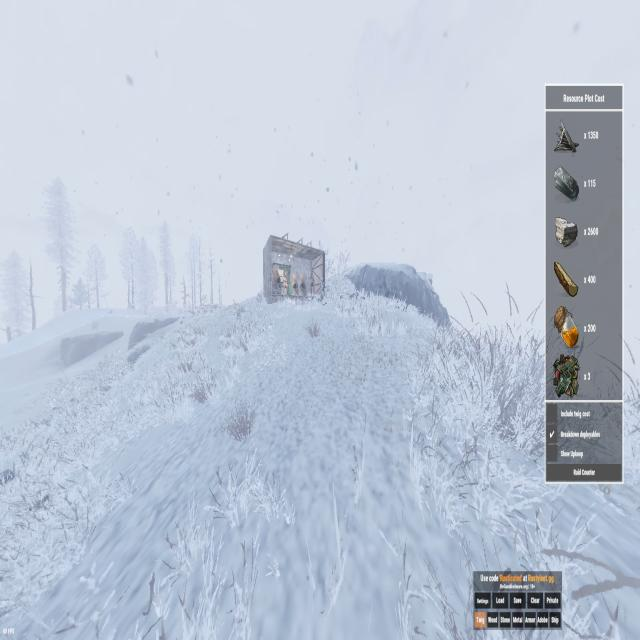Player: (282, 266, 288, 296), (310, 270, 315, 297)
